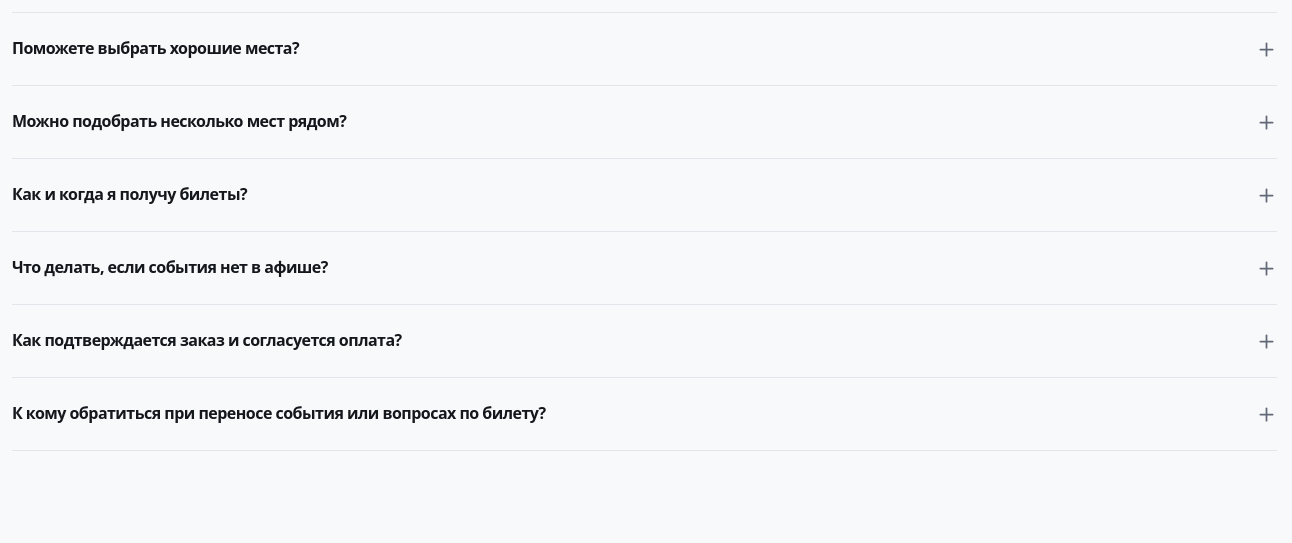
Test: appearance and navigation — isolated component checks › opens one FAQ answer at a time and keeps the controls labelled
The width and height of the screenshot is (1292, 543).
What coordinates should you click on to do the following:
click the button "Поможете выбрать хорошие места?"
I would click on:
 (156, 48)
Its box is [12,13,1277,85].
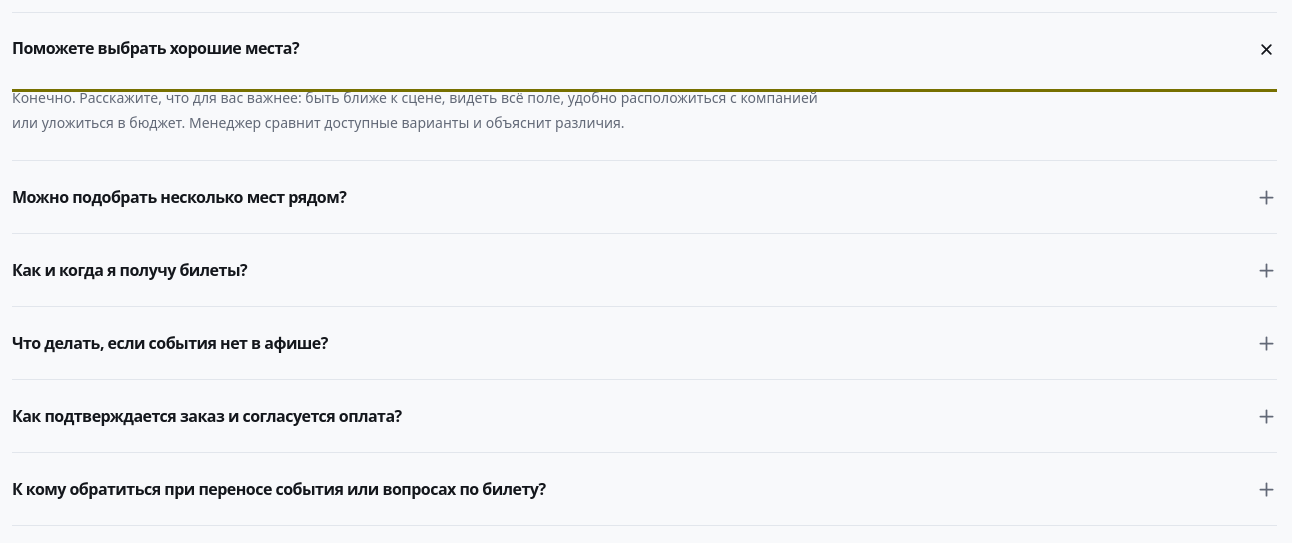
Expected: the button "Поможете выбрать хорошие места?" is expanded, [12,13,1277,85]
Expected: the element named "Поможете выбрать хорошие места?" is shown, [12,88,818,132]
What coordinates should you click on to do the following:
click the button "Можно подобрать несколько мест рядом?"
I would click on:
 (179, 197)
Its box is [12,161,1277,233].
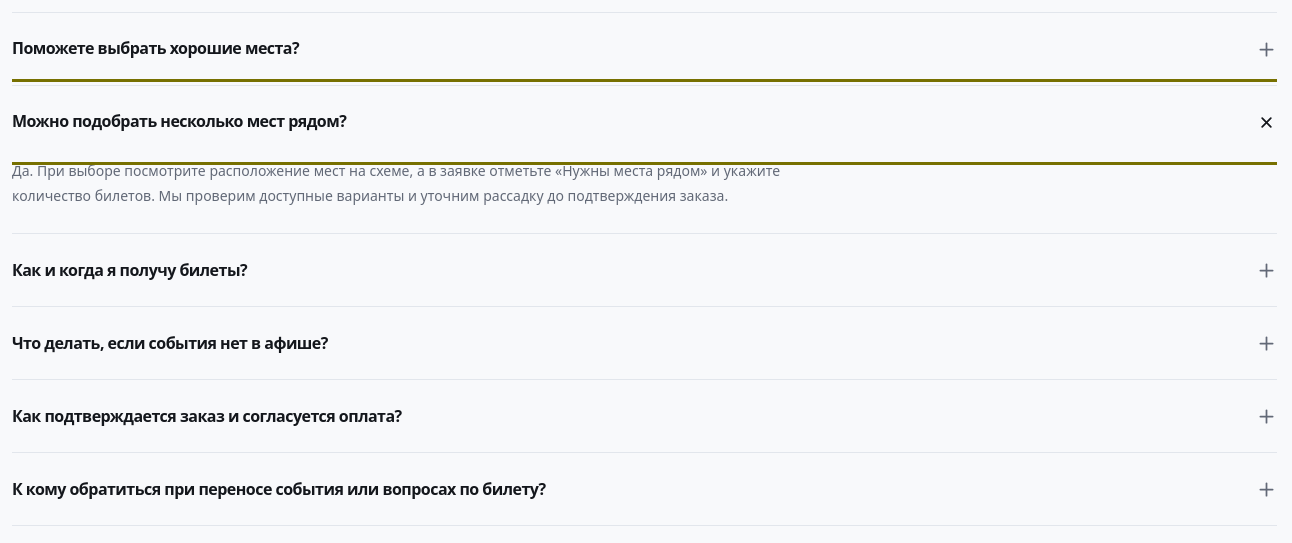
Expected: the button "Поможете выбрать хорошие места?" is collapsed, [12,13,1277,85]
Expected: the button "Можно подобрать несколько мест рядом?" is expanded, [12,86,1277,158]
